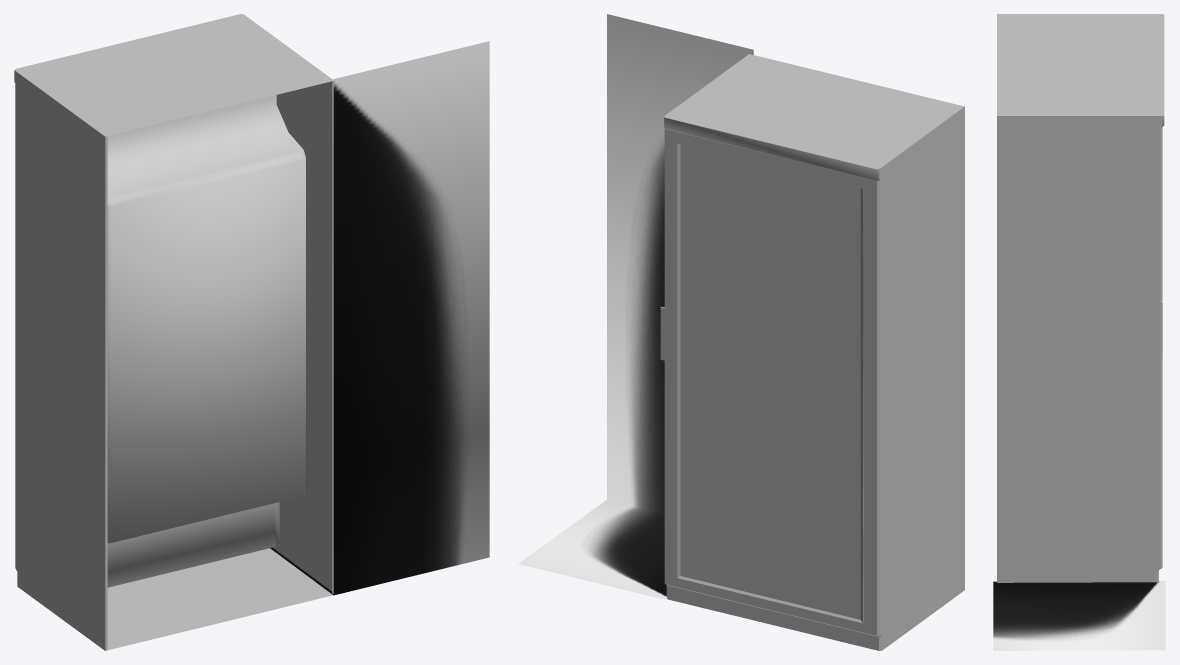
File: Fridge1.fbx
3 renders of one model, left to right at view 1: azimuth 30°, elevation 25°; view 2: azimuth 150°, elevation 25°; view 3: azimuth 270°, elevation 25°, orthographic. The views are drawn at different scales.
Visible parts, largest first — view 1: Fridge1, Fridge_shadow; view 2: Fridge1, Fridge1_glass, Fridge_shadow; view 3: Fridge1, Fridge_shadow.
Boxes of the visible parts, bbox=[...] form: Fridge1: bbox=[14, 14, 333, 650]; Fridge_shadow: bbox=[270, 41, 489, 595]; Fridge1: bbox=[660, 54, 964, 650]; Fridge1_glass: bbox=[677, 143, 862, 623]; Fridge_shadow: bbox=[518, 14, 753, 599]; Fridge1: bbox=[997, 14, 1164, 582]; Fridge_shadow: bbox=[993, 581, 1165, 650].
Bounding box in the file's own units: 1.41 × 1.83 × 0.6046.
